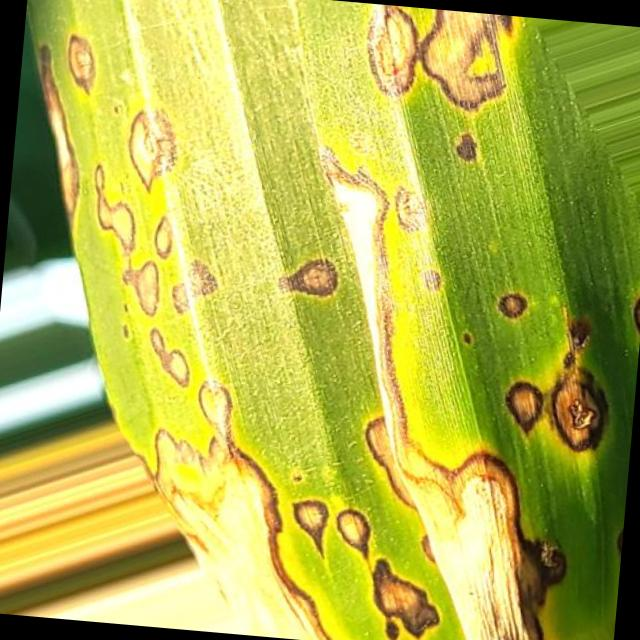Banana_Black_Sigatoka: (274, 152, 640, 640), (28, 21, 235, 372), (322, 3, 558, 114)
